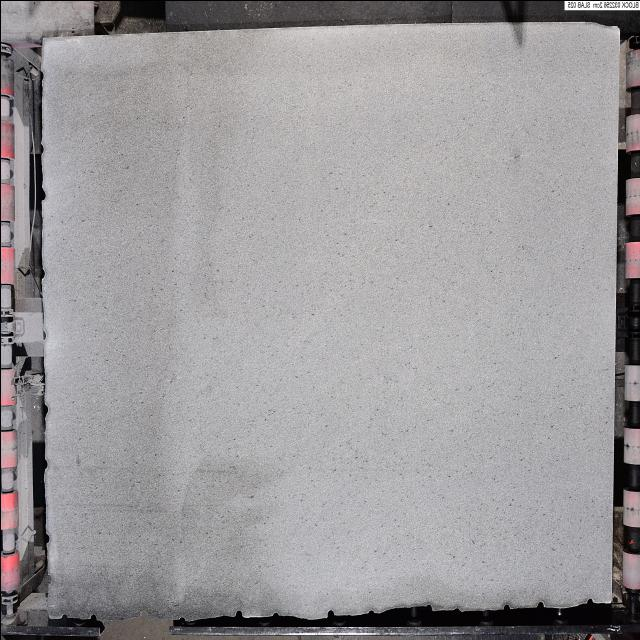chapa: (41, 22, 618, 620)
veio: (230, 606, 244, 620), (38, 183, 46, 206), (534, 598, 546, 613), (500, 601, 512, 614), (324, 608, 334, 622)
